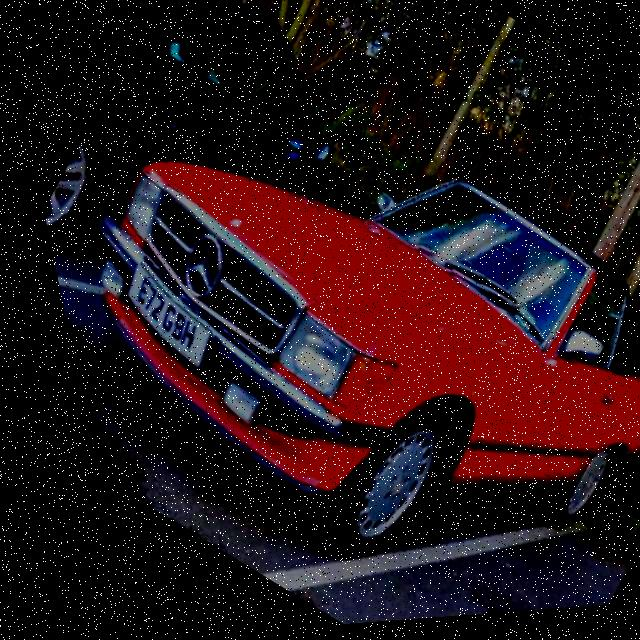license_plate: (90, 261, 219, 374)
